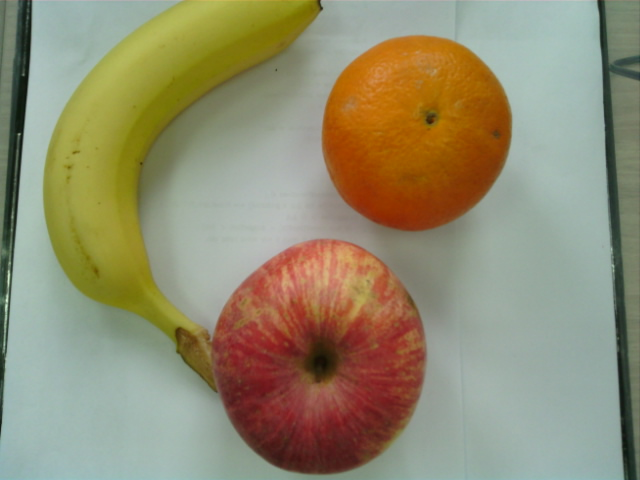normal_apple: (216, 240, 430, 480)
normal_banana: (43, 1, 326, 321)
normal_orange: (324, 34, 514, 234)
